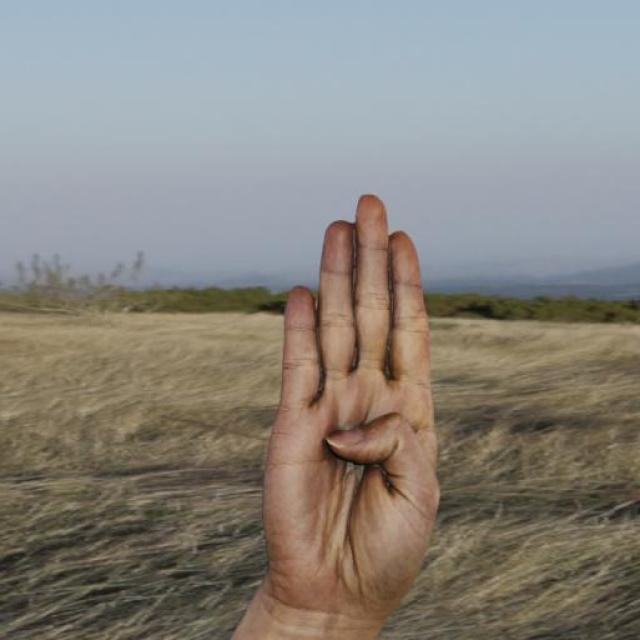B: (260, 190, 441, 622)
